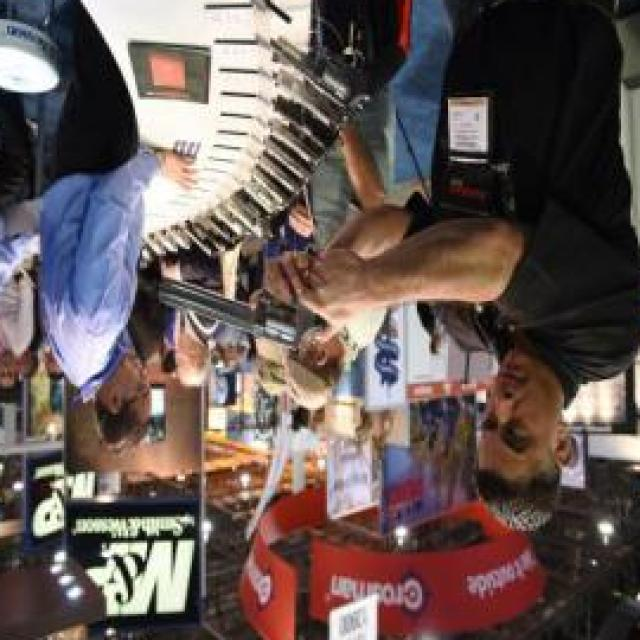pistol: (156, 266, 342, 356)
